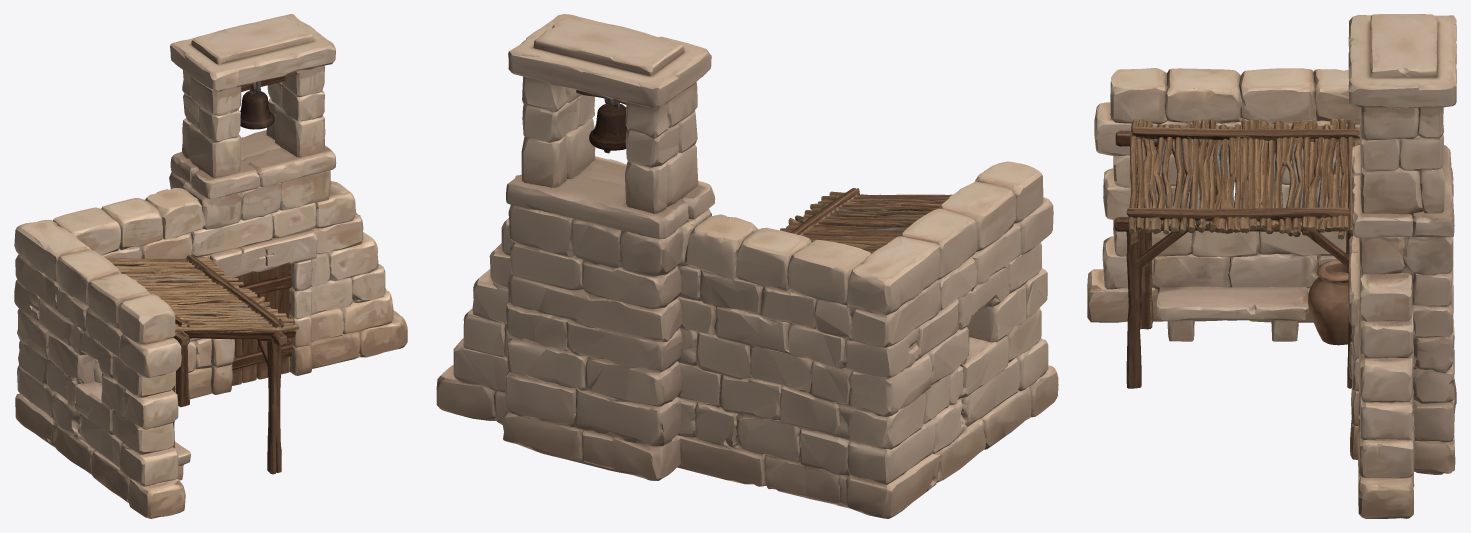
Rendered from monastery-hero.glb.
3 renders of one model, left to right at view 1: azimuth 30°, elevation 25°; view 2: azimuth 150°, elevation 25°; view 3: azimuth 270°, elevation 25°, orthographic. The views are drawn at different scales.
Parts seen in each view (by area): view 1: mesh_node; view 2: mesh_node; view 3: mesh_node.
Part boxes in pixels (x1,y1,x2,y2): mesh_node: (14,14,407,518); mesh_node: (436,14,1058,518); mesh_node: (1087,14,1456,518).
Size of the model in its own units: 1.9 by 1.61 by 1.35.
Materials: 1 (1 with a texture image).
